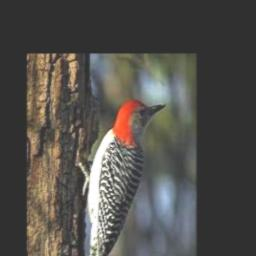Woodpecker: (79, 98, 165, 256)
